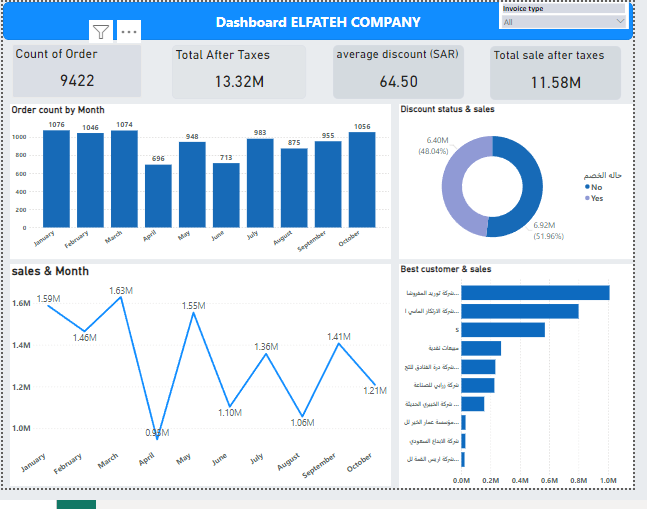

Layout of this report page (visuals, bound fields, positions):
{"tool":"powerbi","page":{"name":"Page 1","canvas":[2100,1620],"ordinal":0},"visuals":[{"type":"shape","box":[0,0,2100,126.7],"z":0},{"type":"card","title":"Count of Order","fields":{"Values":["All sales.Order count"]},"box":[30,140,433.3,180],"z":1000},{"type":"card","title":"Total After Taxes","fields":{"Values":["Sum(All sales.مبلغ الصافي بالمحلي)"]},"box":[563.3,143.3,446.7,180],"z":1001},{"type":"card","title":"average discount (SAR)","fields":{"Values":["All sales.Avg disc"]},"box":[1100,143.3,436.7,180],"z":1002},{"type":"card","title":"Total sale after taxes","fields":{"Values":["Sum(All sales.صافي المبيعات)"]},"box":[1623.3,146.7,436.7,180],"z":1003},{"type":"lineChart","title":"sales & Month","fields":{"Y":["Sum(All sales.مبلغ الصافي بالمحلي)"],"Category":["All sales.التاريخ.Variation.Date Hierarchy.Month"]},"box":[23.3,873.3,1270,740],"z":1004},{"type":"barChart","title":"Best customer & sales","fields":{"Category":["All sales.اسم العميل"],"Y":["Sum(All sales.مبلغ الصافي بالمحلي)"]},"box":[1320,873.3,780,746.7],"z":1005},{"type":"donutChart","title":"Discount status & sales","fields":{"Category":["All sales.حاله الخصم"],"Y":["Sum(All sales.مبلغ الصافي بالمحلي)"]},"box":[1320,340,780,516.7],"z":1006},{"type":"columnChart","fields":{"Y":["All sales.Order count"],"Category":["All sales.التاريخ.Variation.Date Hierarchy.Month"]},"box":[23.3,340,1270,516.7],"z":1007},{"type":"slicer","fields":{"Values":["All sales.نوع الفاتورة"]},"box":[1653.3,0,433.3,90],"z":1008}]}

Visuals, with their boxes in screenshot pixels (x1, y1, x2, y2), scaled from the page's 2100x1620 canvas onto the 647x509 screenshot:
shape: (0,0,646,40)
"Count of Order" card: (9,44,143,101)
"Total After Taxes" card: (174,45,311,102)
"average discount (SAR)" card: (339,45,473,102)
"Total sale after taxes" card: (500,46,635,103)
"sales & Month" lineChart: (7,274,398,507)
"Best customer & sales" barChart: (407,274,646,508)
"Discount status & sales" donutChart: (407,107,646,269)
columnChart - All sales.Order count x All sales.التاريخ.Variation.Date Hierarchy.Month: (7,107,398,269)
slicer - All sales.نوع الفاتورة: (509,0,643,28)
